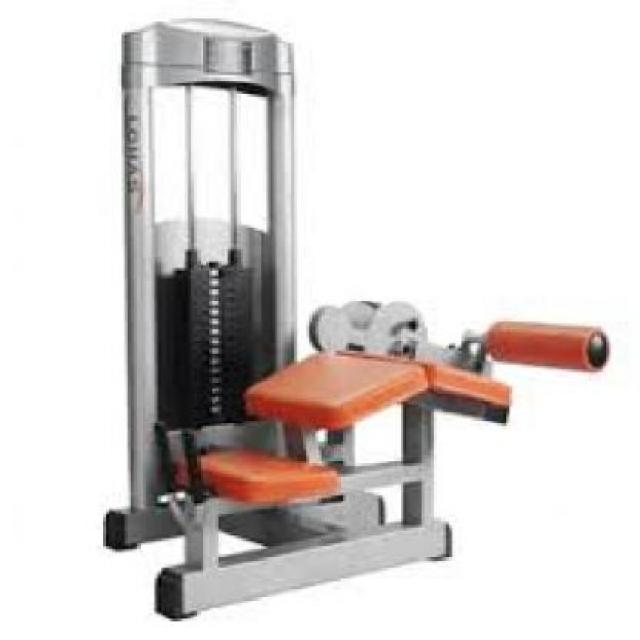reg curl machine: (95, 8, 617, 626)
